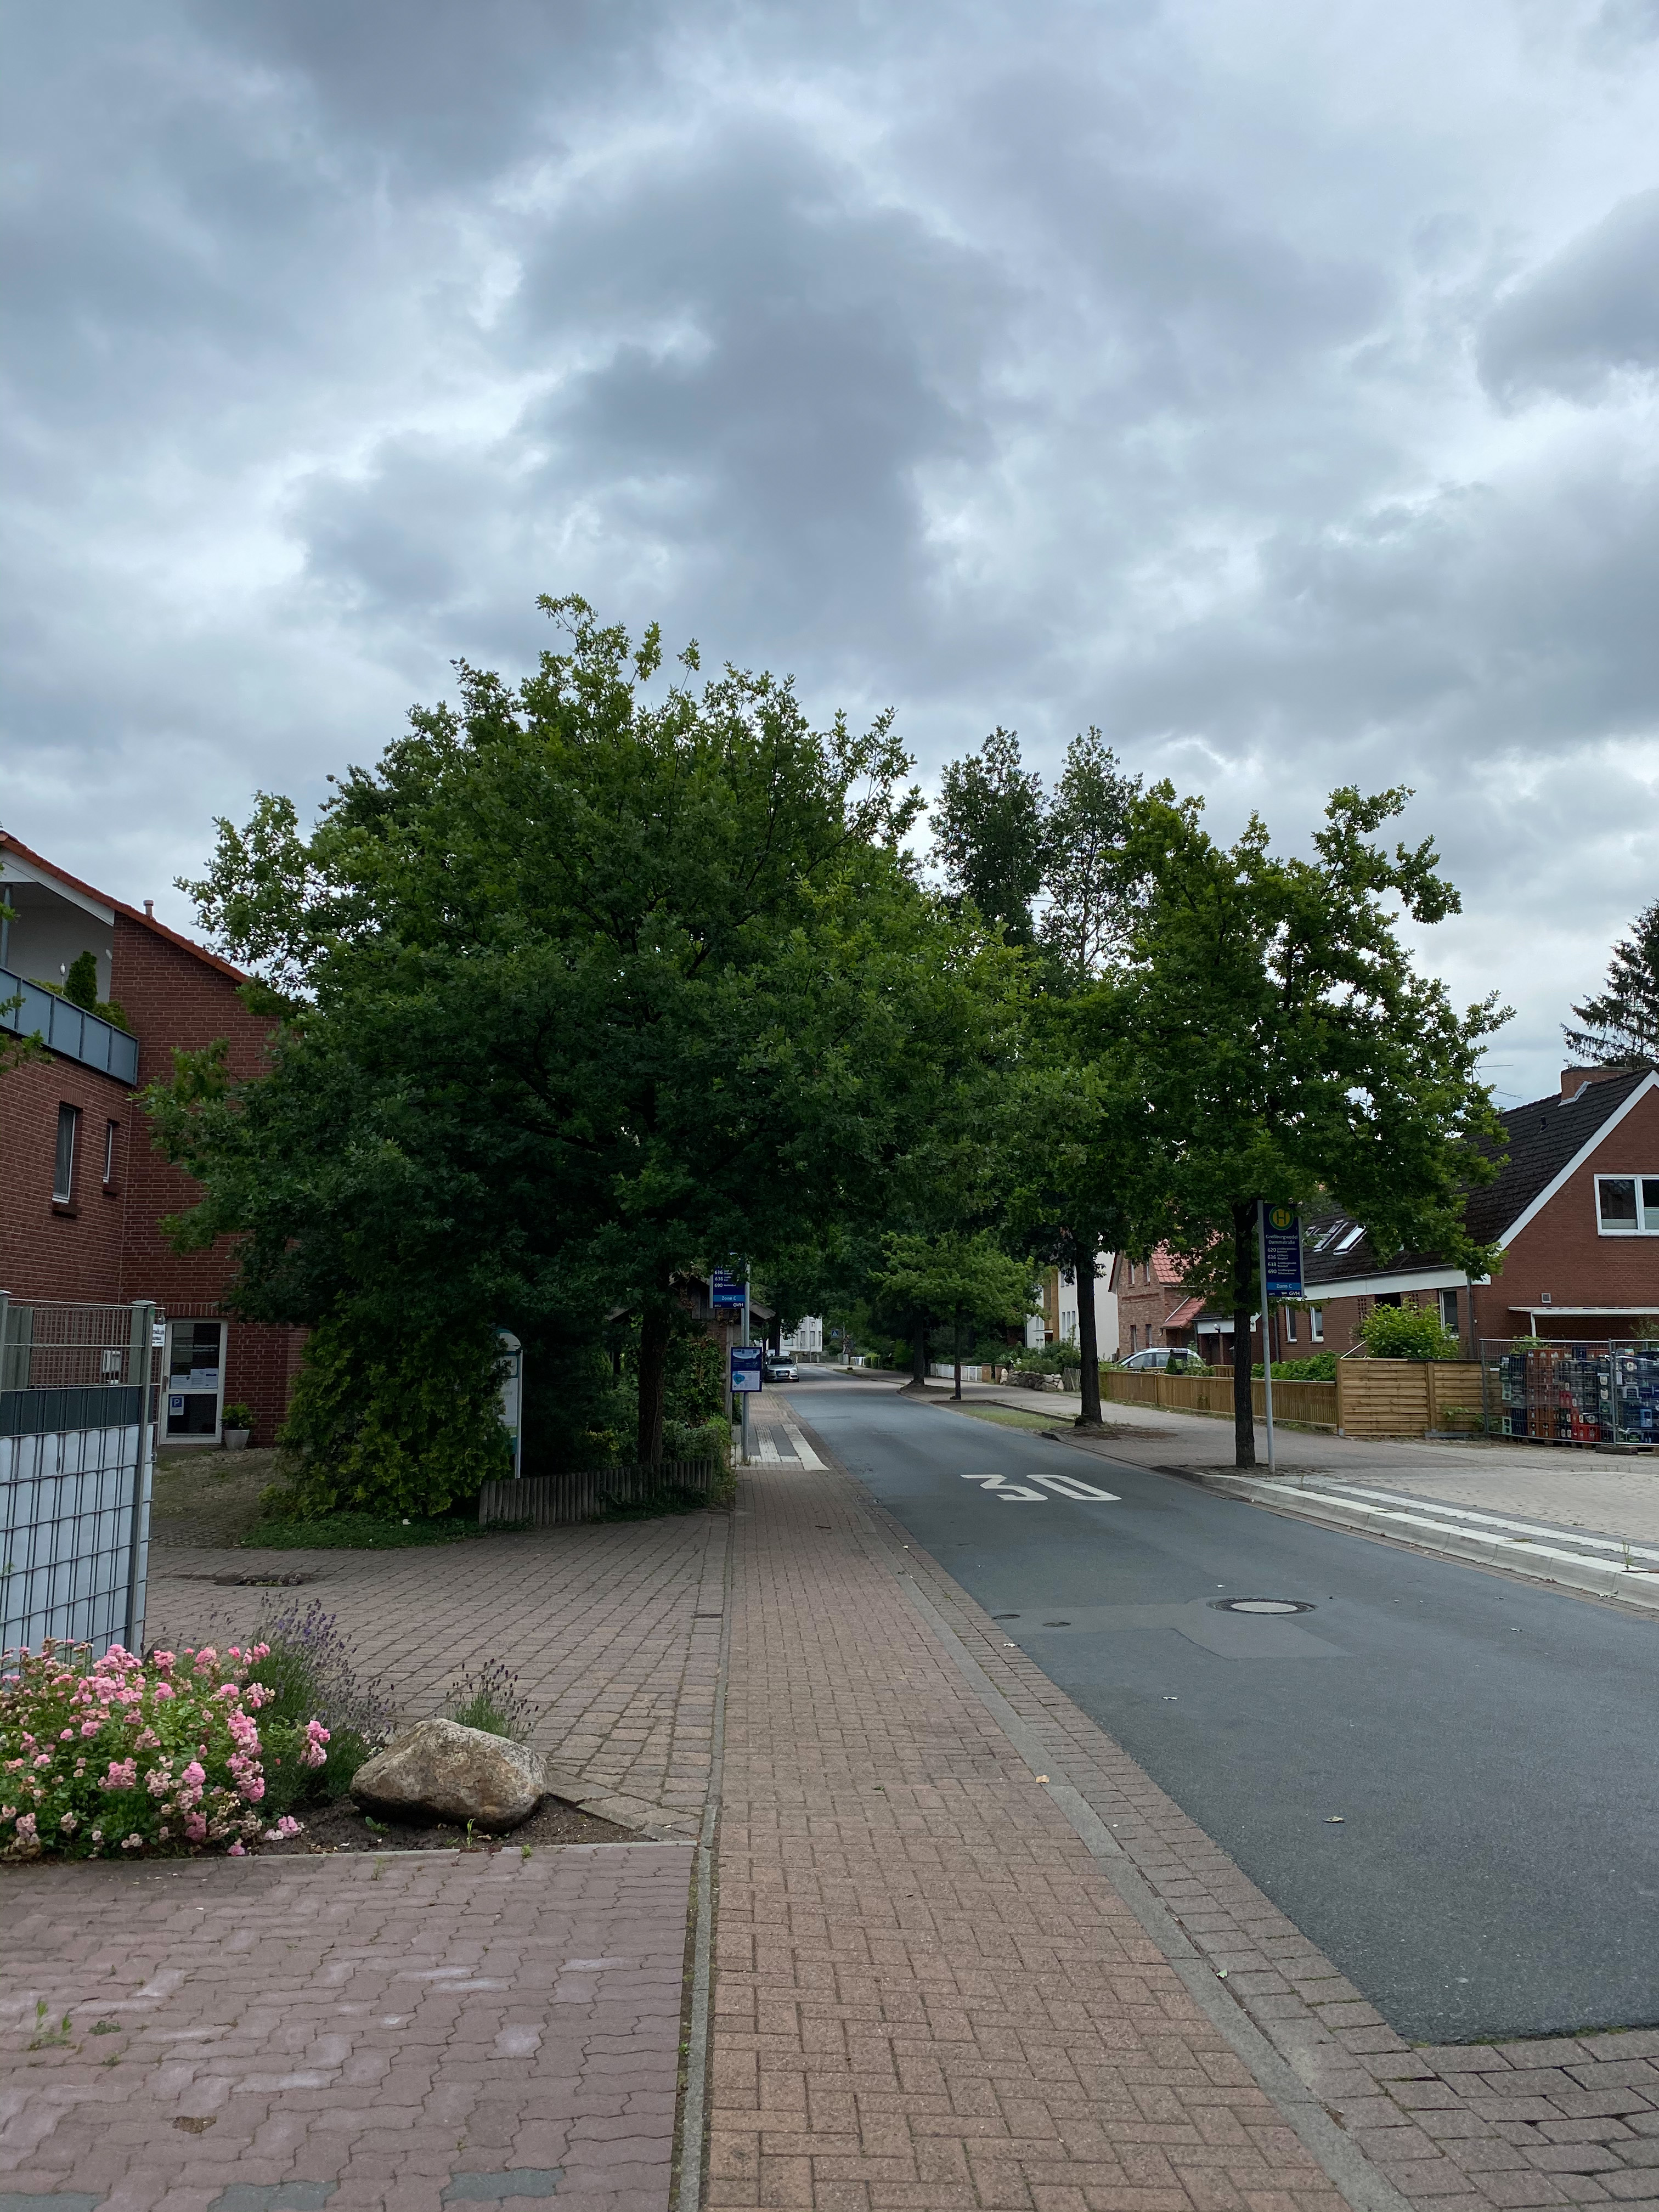tree: (124, 592, 1108, 1468), (1066, 782, 1516, 1474), (917, 725, 1272, 1428), (256, 1312, 519, 1524), (866, 1228, 1056, 1400), (1558, 897, 1659, 1069), (0, 862, 58, 1078), (870, 1303, 948, 1386), (763, 1280, 807, 1357)
